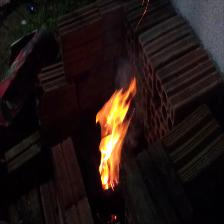fire: (83, 56, 149, 207)
